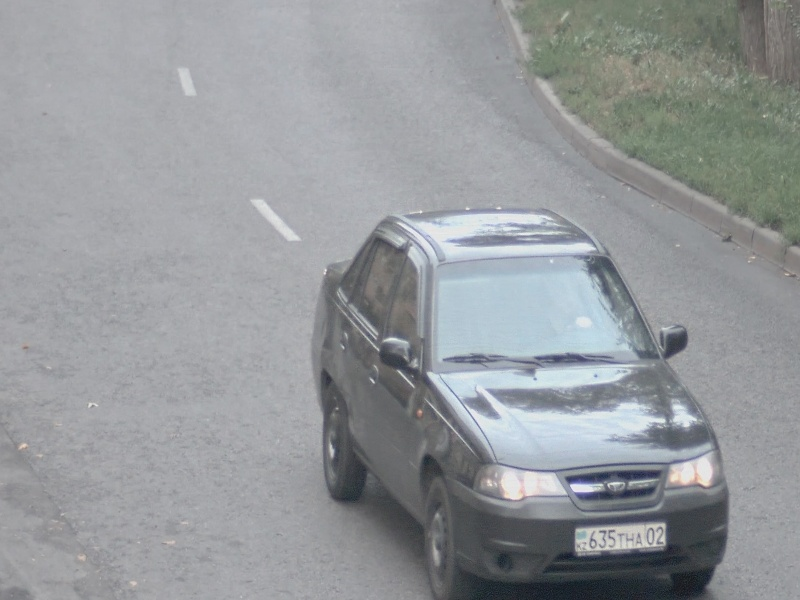plate: (573, 520, 669, 557)
